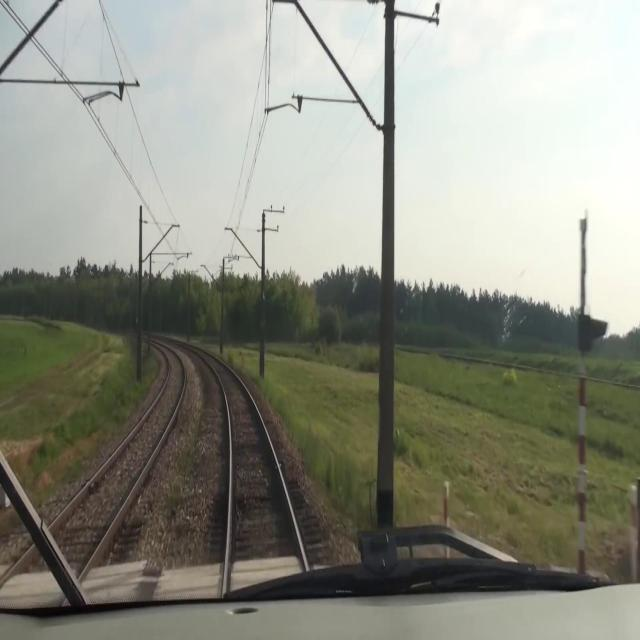rail-track: (0, 347, 182, 607), (200, 352, 304, 590)
